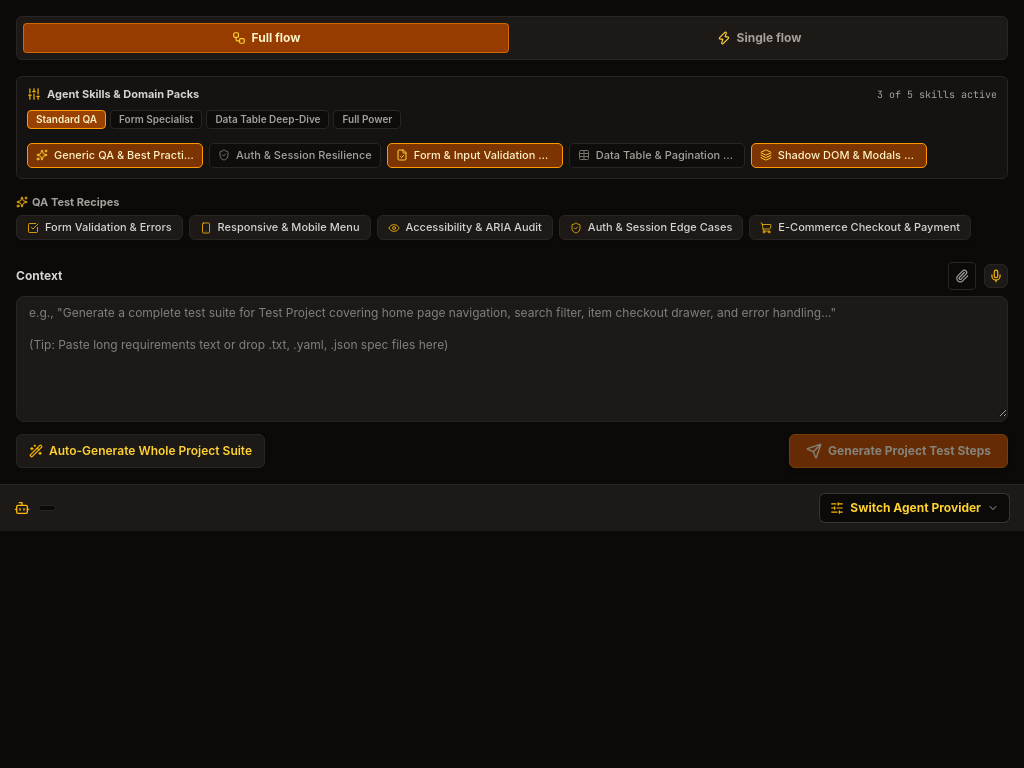
Test case: AiCopilot › displays generation telemetry metrics when flow is generated
Replace the text in the text box with placeholder "Generate a complete test suite for Test Project" with "Add checkout step": (512, 357) [17, 297, 1007, 417]
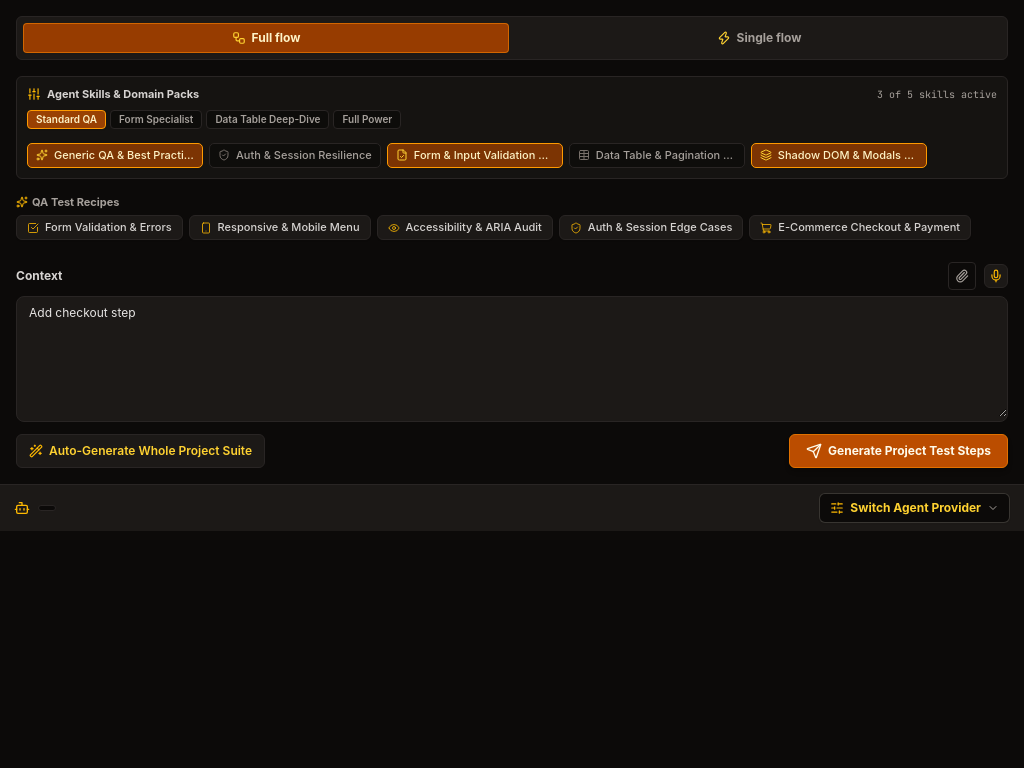
Click the button "Generate Project Test Steps": (899, 451) [789, 434, 1008, 468]
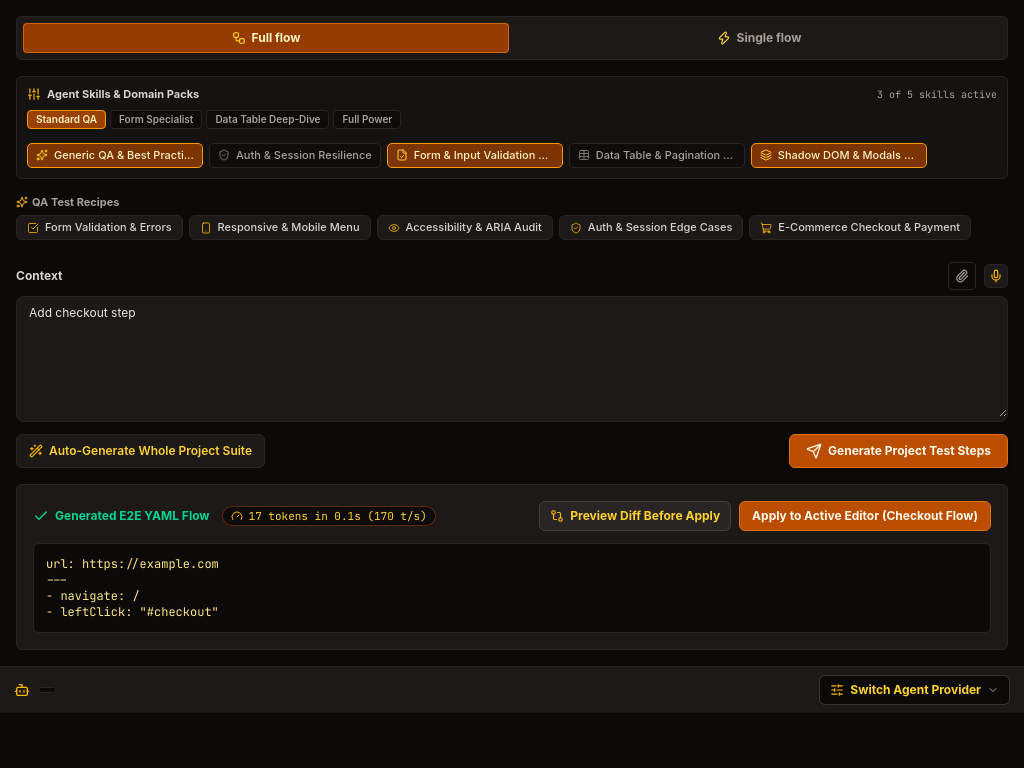
Expected: the element with test id "copilot-telemetry-chip" is shown, [222, 506, 436, 526]
Expected: the element with test id "copilot-telemetry-chip" shows "tokens", [249, 509, 427, 523]
Expected: the element with test id "copilot-telemetry-chip" shows "t/s", [249, 509, 427, 523]
